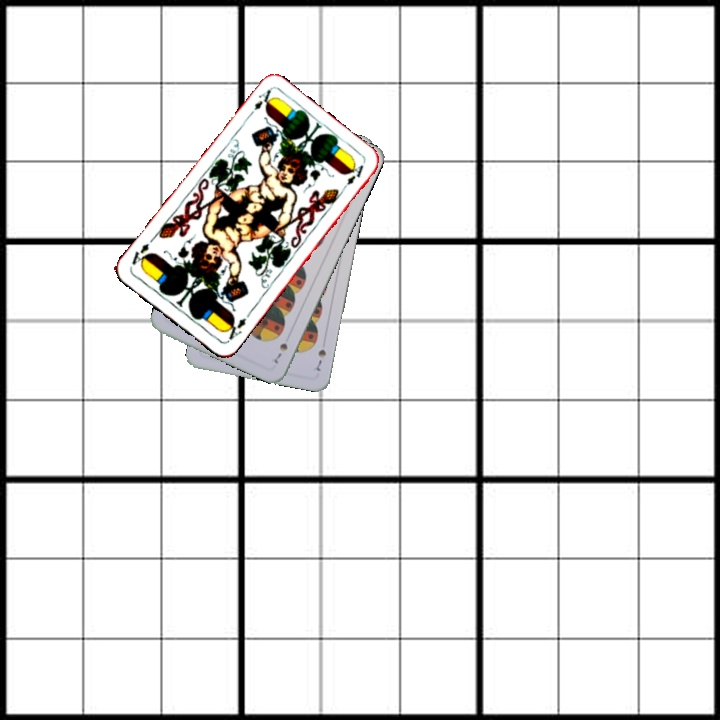EA: (243, 85, 277, 120), (221, 314, 249, 345)
S7: (270, 339, 290, 367), (312, 345, 329, 374)
